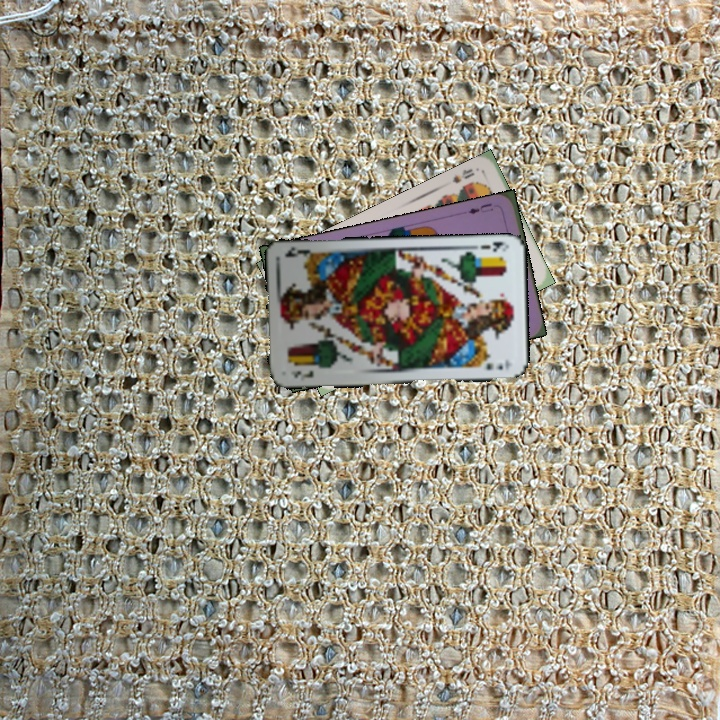EK: (476, 237, 509, 255), (287, 366, 316, 383)
EU: (464, 199, 501, 217)
S8: (448, 164, 477, 186)
